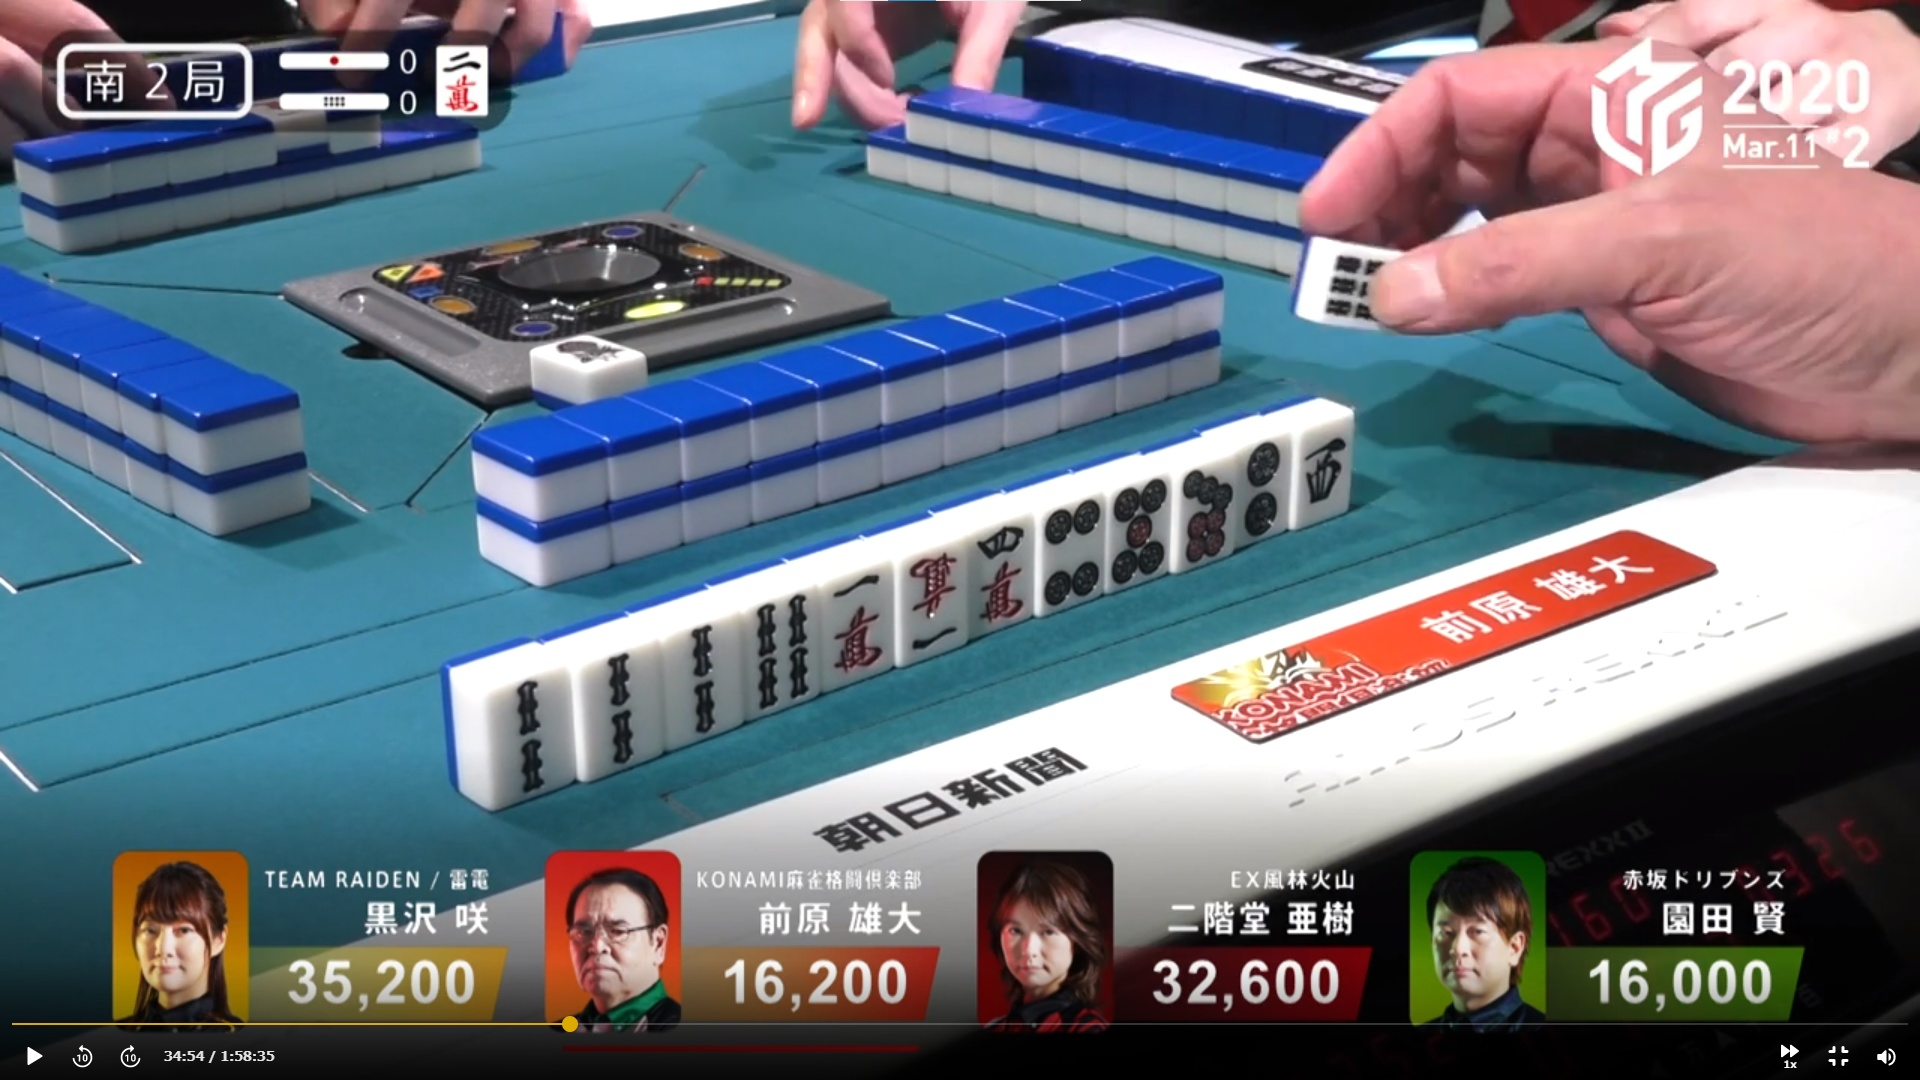1m: (894, 537, 963, 655), (824, 555, 882, 682)
2p: (1240, 433, 1283, 542)
2s: (477, 658, 568, 796), (575, 637, 659, 786), (669, 622, 733, 741)
4m: (965, 512, 1029, 628)
4p: (1036, 495, 1100, 608)
4s: (742, 591, 819, 705)
5p: (1104, 465, 1170, 589)
7p: (1176, 448, 1234, 567)
hand_nan_2: (53, 36, 270, 120)
round_0: (277, 80, 415, 117)
sha: (1292, 415, 1345, 524)
team_konami: (1160, 622, 1453, 745)
